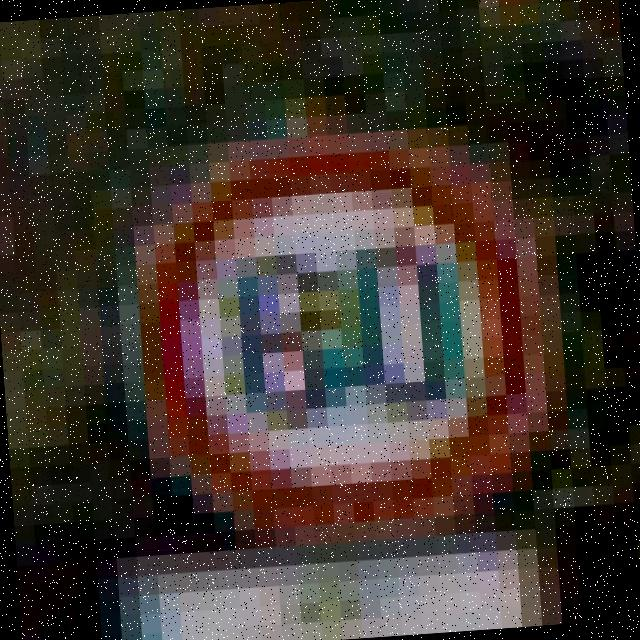Ograniczenie predkosci do 80: (124, 111, 557, 557)
